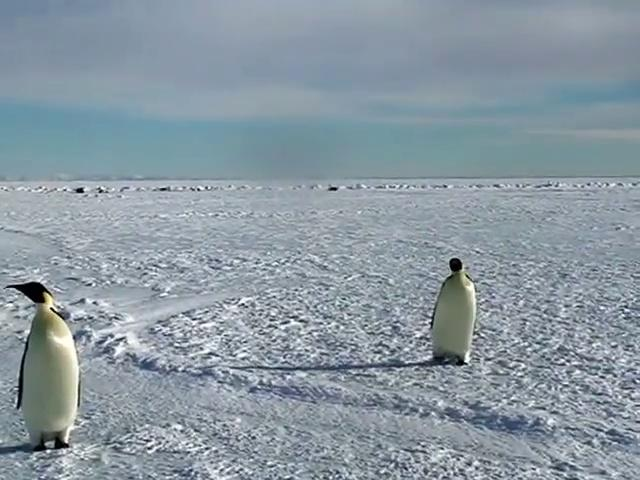animal: (7, 282, 79, 449)
